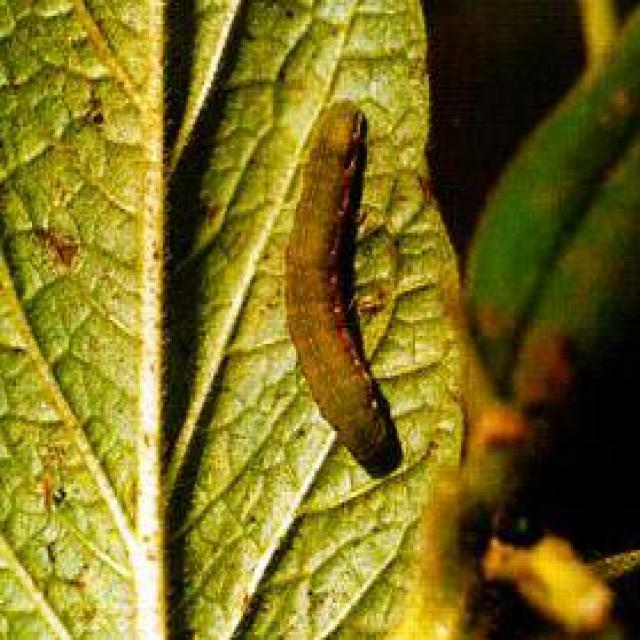BeetArmyWorm-Larva-: (261, 80, 420, 483)
